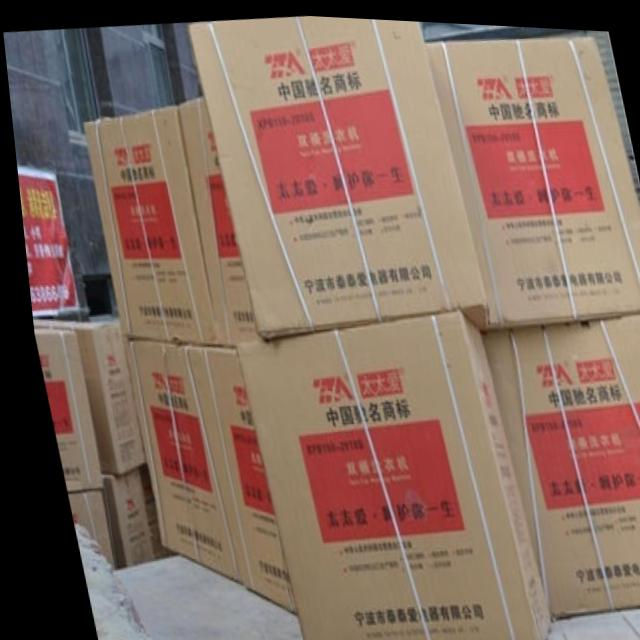box: (228, 304, 539, 640), (187, 13, 481, 337), (424, 30, 640, 324), (475, 306, 640, 611), (81, 102, 211, 342), (115, 335, 232, 583), (194, 342, 285, 614), (174, 93, 251, 344), (26, 317, 136, 475), (27, 327, 94, 491), (91, 462, 165, 567), (56, 490, 106, 568)
